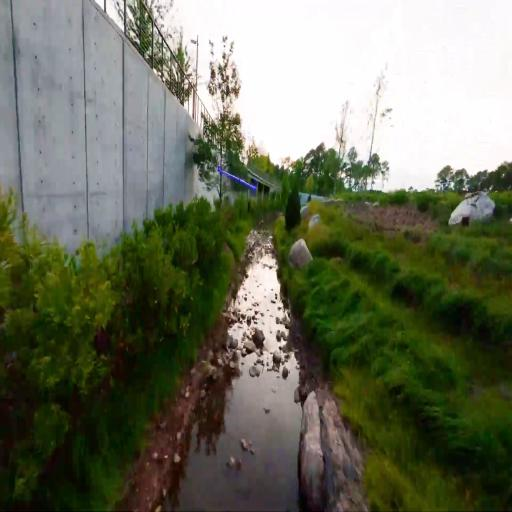uav: (217, 164, 257, 194)
